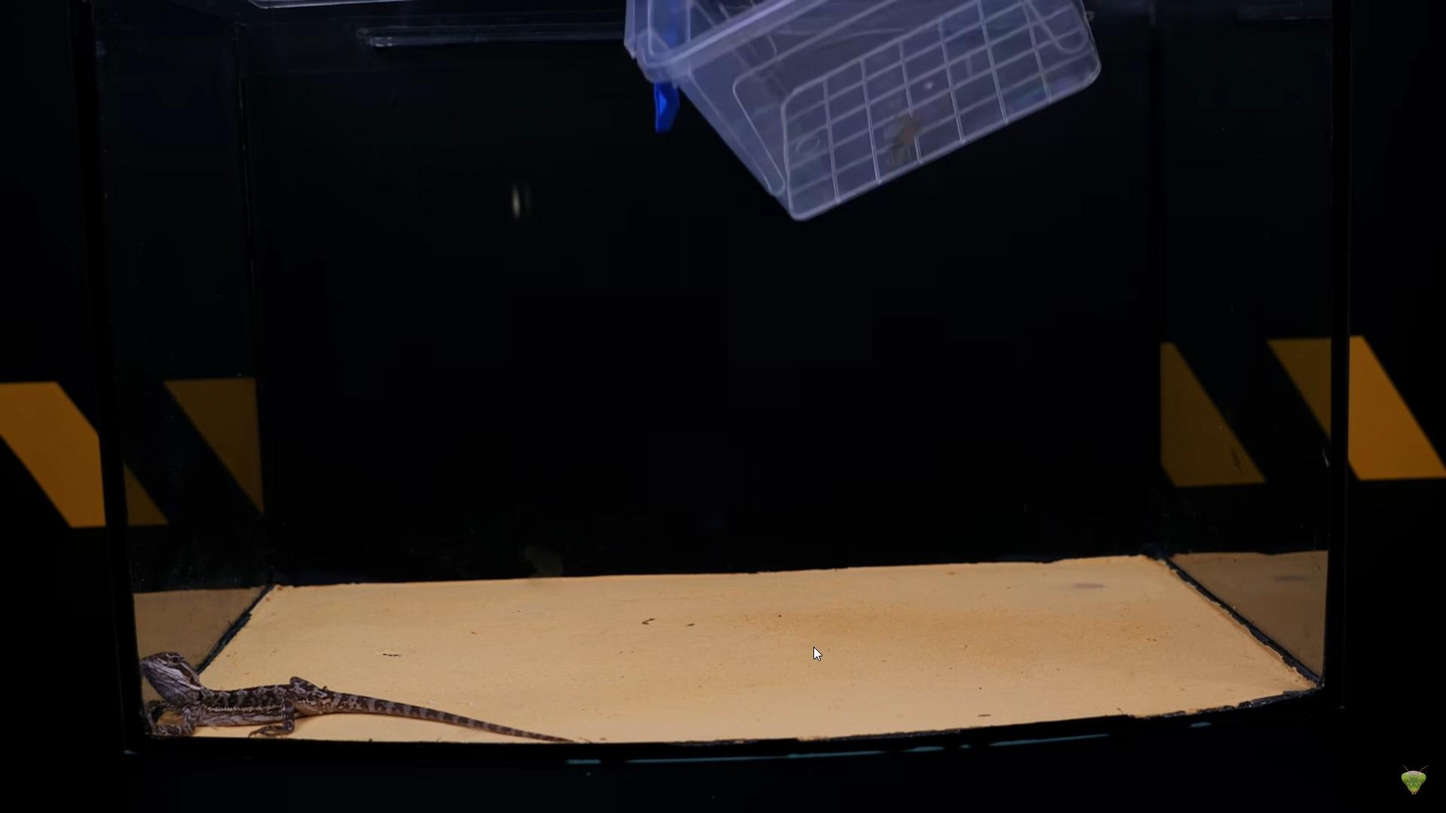lizard: (126, 640, 446, 740)
